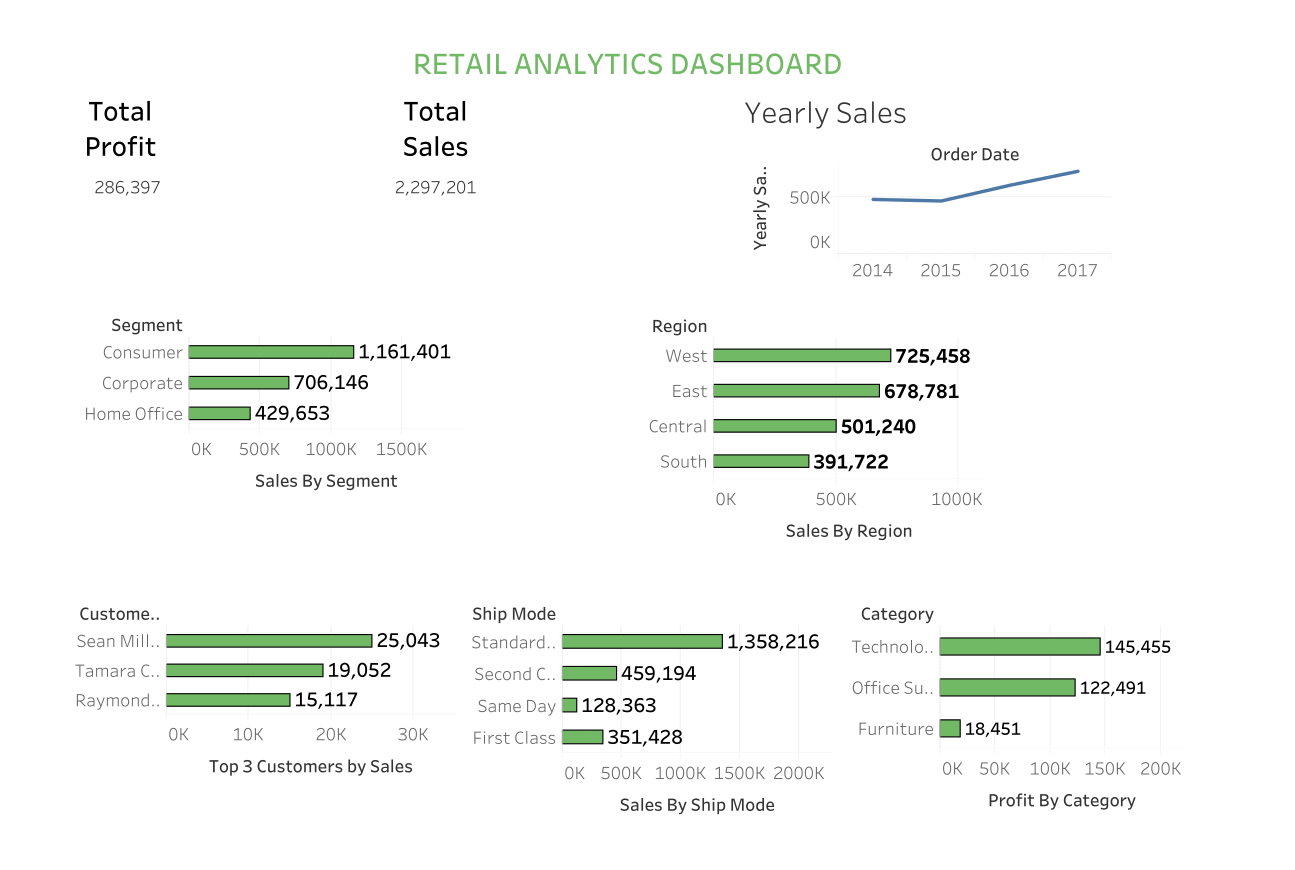

The page's visual inventory and layout, read from the dashboard file:
{"tool":"tableau","page":{"name":"Dashboard 1","canvas":[1000,800],"ordinal":0},"visuals":[{"type":"text","box":[8,8,984,32]},{"type":"dashboard-object","box":[100,8,24,24]},{"type":"worksheet","title":"Total Profit","mark":"Automatic","box":[8,40,277,108]},{"type":"worksheet","title":"Total Sales","mark":"Automatic","box":[285,40,192,186]},{"type":"worksheet","title":"Yearly Sales","mark":"Line","rows":["Sales"],"cols":["Order Date"],"box":[477,40,458,186]},{"type":"worksheet","title":"Sales By Segment","mark":"Automatic","rows":["Segment"],"cols":["Sales"],"box":[8,241,481,187]},{"type":"worksheet","title":"Sales By Region","mark":"Bar","rows":["Region"],"cols":["Sales"],"box":[489,241,388,231]},{"type":"worksheet","title":"Top 3 Customers by Sales","mark":"Automatic","rows":["Customer Name"],"cols":["Sales"],"box":[8,472,348,320]},{"type":"worksheet","title":"Sales By Ship Mode","mark":"Automatic","rows":["Ship Mode"],"cols":["Sales"],"box":[356,472,332,320]},{"type":"worksheet","title":"Profit By Category ","mark":"Automatic","rows":["Category"],"cols":["Profit"],"box":[688,472,304,320]}]}

Visuals, with their boxes on the page's 1000x800 design canvas (x1, y1, x2, y2). These are canvas units, not pixel positions in the 1295x870 screenshot, which may show the page scaled, cropped or inside an application window:
text: [8,8,992,40]
dashboard-object: [100,8,124,32]
"Total Profit" worksheet: [8,40,285,148]
"Total Sales" worksheet: [285,40,477,226]
"Yearly Sales" worksheet (Line marks): [477,40,935,226]
"Sales By Segment" worksheet: [8,241,489,428]
"Sales By Region" worksheet (Bar marks): [489,241,877,472]
"Top 3 Customers by Sales" worksheet: [8,472,356,792]
"Sales By Ship Mode" worksheet: [356,472,688,792]
"Profit By Category " worksheet: [688,472,992,792]
